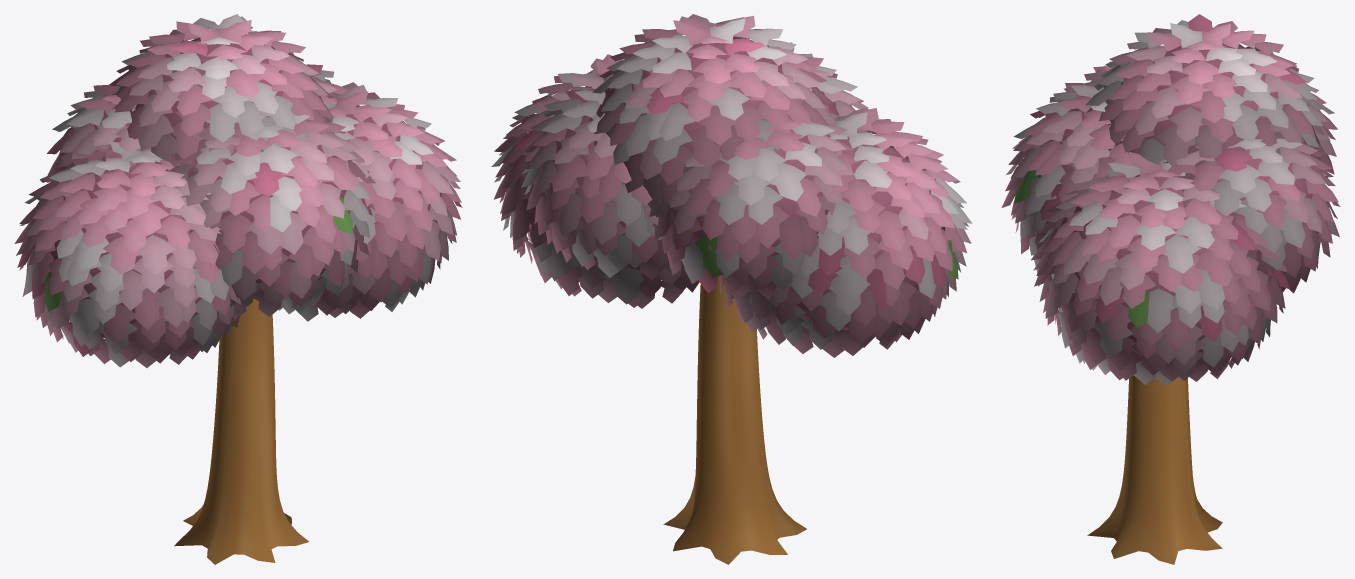
File: tree_grand_spring.glb
The picture shows the model from 3 angles, left to right: view 1: azimuth 30°, elevation 25°; view 2: azimuth 150°, elevation 25°; view 3: azimuth 270°, elevation 25°; orthographic projection. The views are drawn at different scales.
Visible parts, largest first — view 1: tree_grand_spring; view 2: tree_grand_spring; view 3: tree_grand_spring.
Part boxes in pixels (x1,y1,x2,y2): tree_grand_spring: (14, 14, 462, 564); tree_grand_spring: (491, 14, 972, 564); tree_grand_spring: (1001, 14, 1340, 564).
Bounding box in the file's own units: 5.55 × 6.32 × 3.86.
